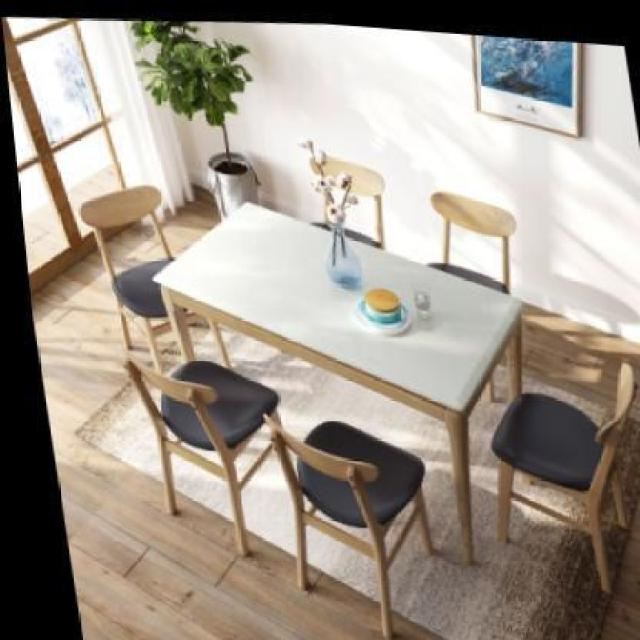tables: (151, 199, 523, 566)
